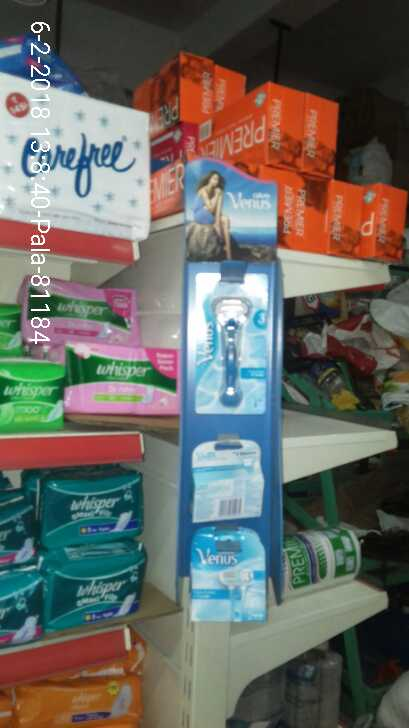beauty: (193, 264, 269, 410), (195, 534, 264, 622)
pharmacy: (64, 333, 183, 413), (24, 275, 142, 346), (48, 548, 147, 630), (35, 472, 148, 543), (1, 362, 64, 423)
